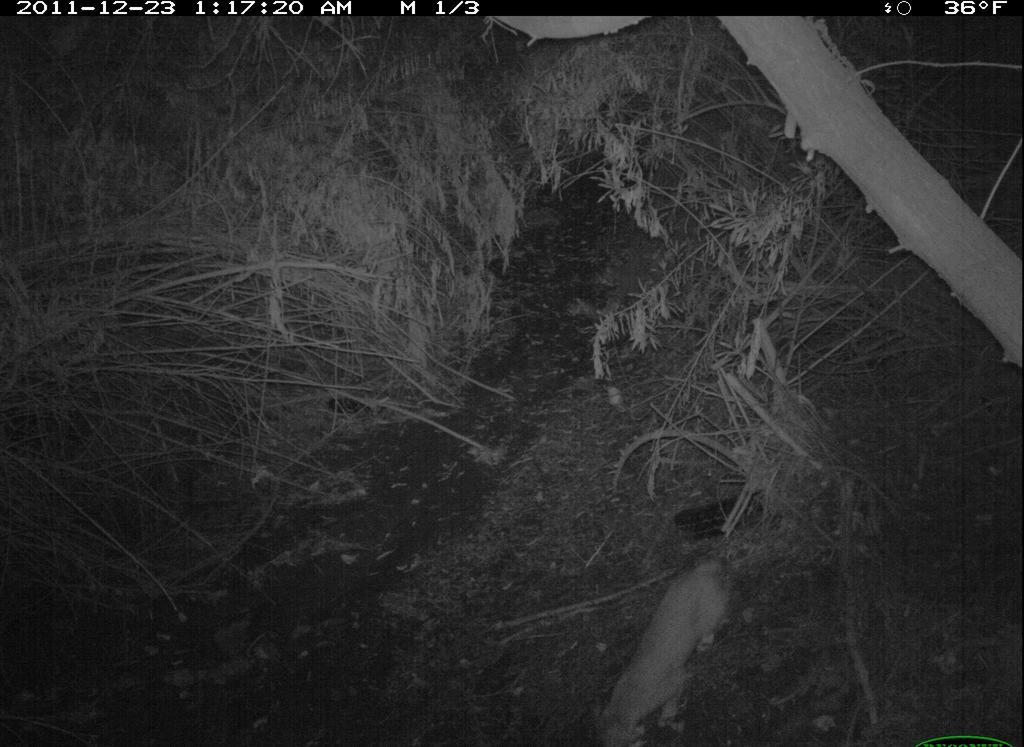bobcat: (570, 538, 763, 734)
